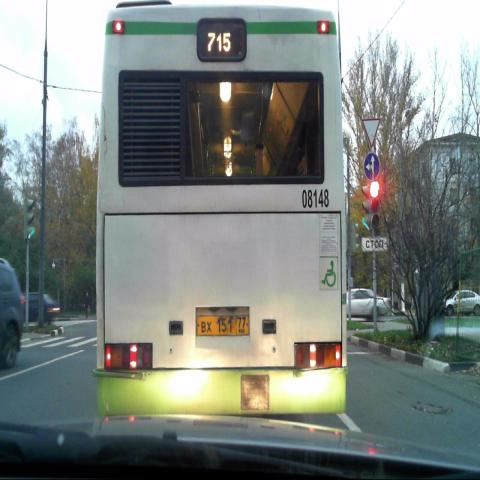4_1_5: (364, 153, 379, 182)
6_16: (361, 237, 386, 252)
